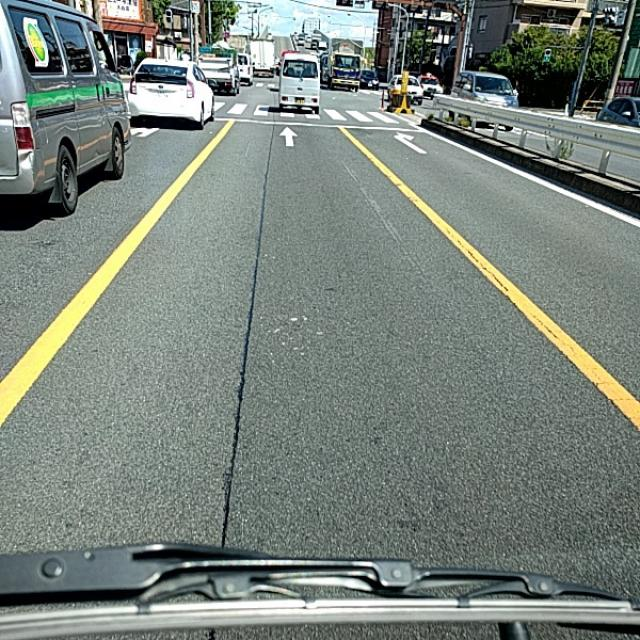pothole: (232, 355, 264, 463)
